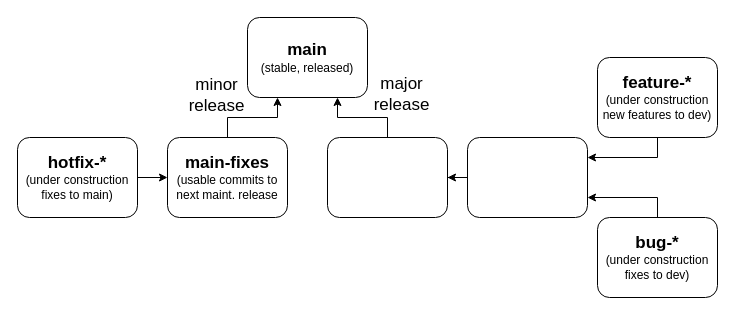
Some shapes in this 735 by 315 pixel diagram are drawn without their labels. Here are the shapes that lost their labels. From the top down, the centre of each, then its label:
At point (387, 177): "pre-release (usable commits for next major release)".
At point (527, 177): "dev (not fully tested new commits)".
